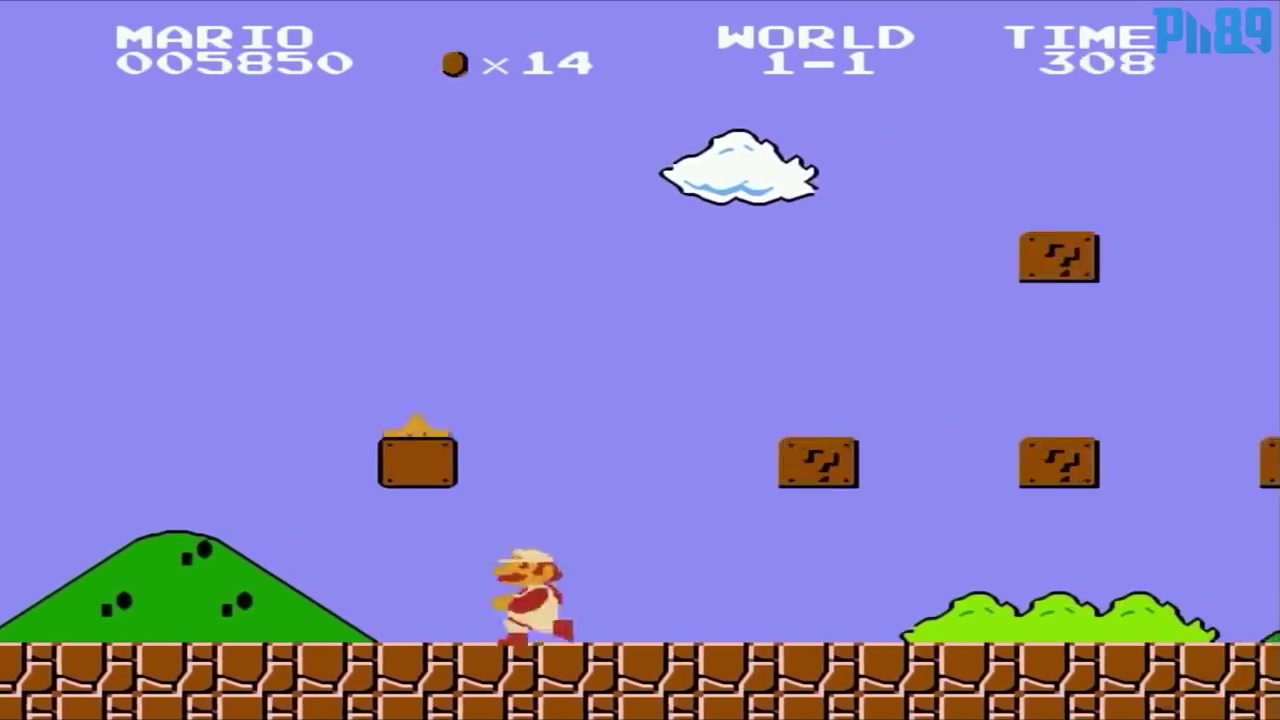mario: (476, 540, 583, 647)
